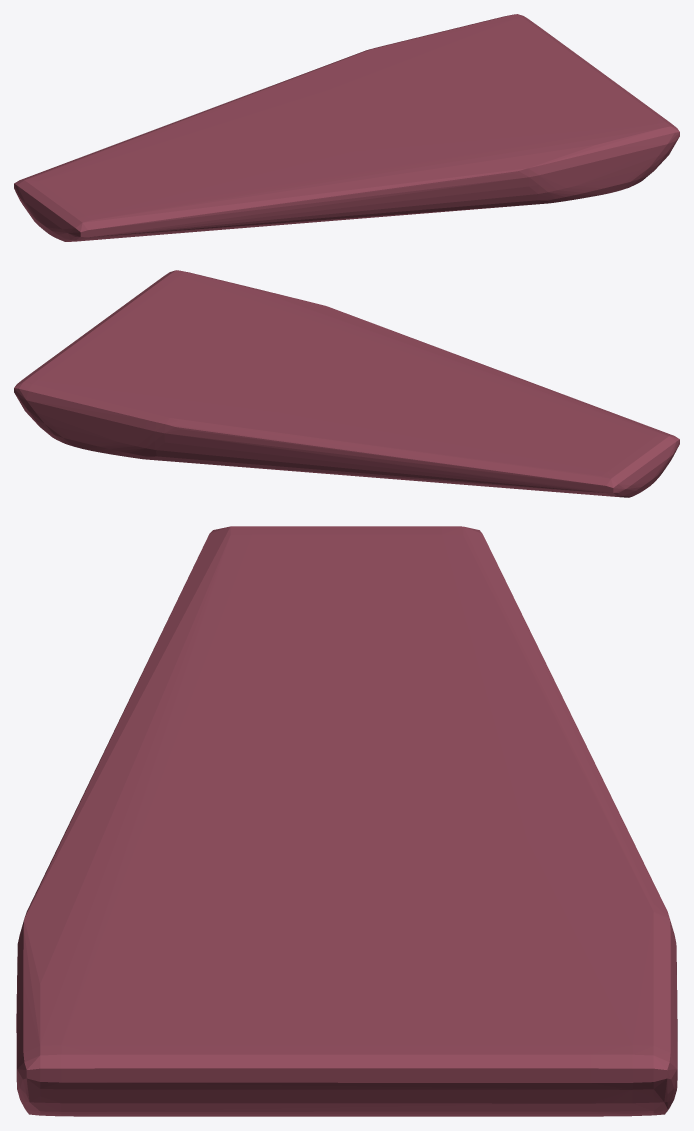
The model's file is right-tarsus-0_part_13.obj.
3 views of the same model, one above another, from view 1: azimuth 30°, elevation 25°; view 2: azimuth 150°, elevation 25°; view 3: azimuth 270°, elevation 25° (orthographic). The views are drawn at different scales.
Size of the model in its own units: 0.1122 by 0.01 by 0.0577.
